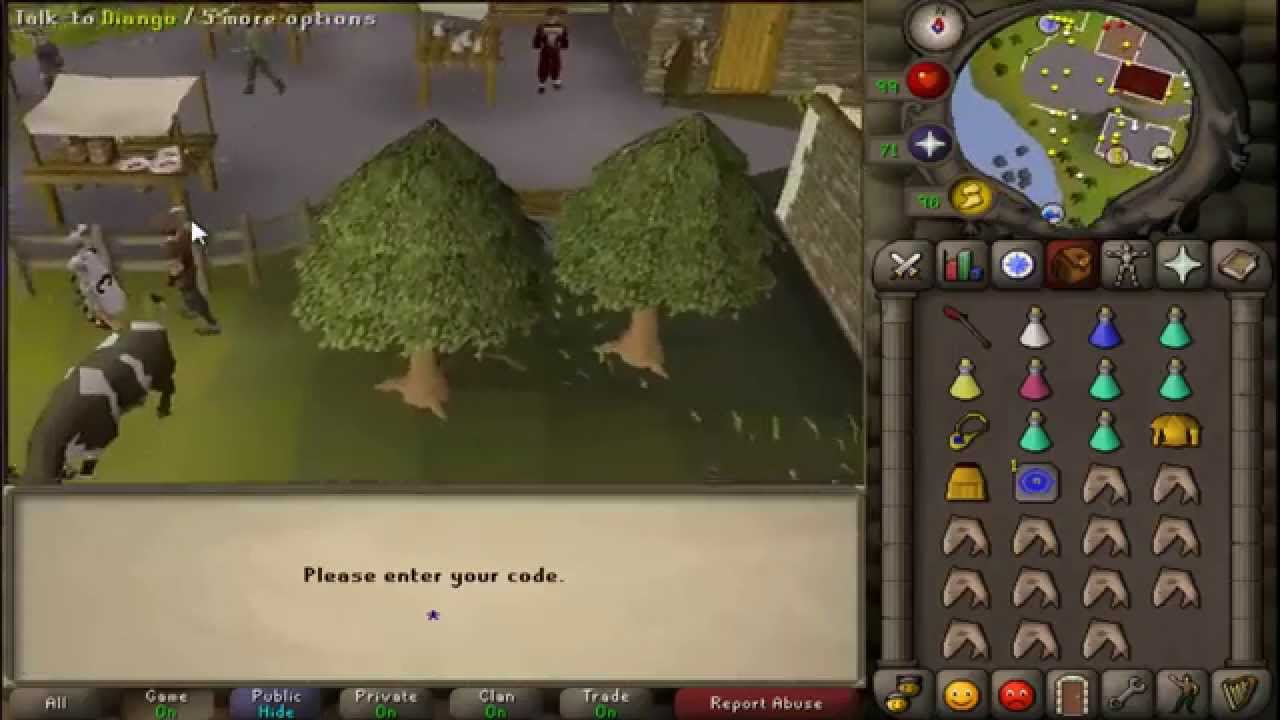rs_cow: (17, 331, 183, 481)
rs_player: (155, 205, 227, 347), (56, 226, 133, 343), (652, 16, 712, 117), (226, 19, 287, 99), (527, 4, 573, 100)
